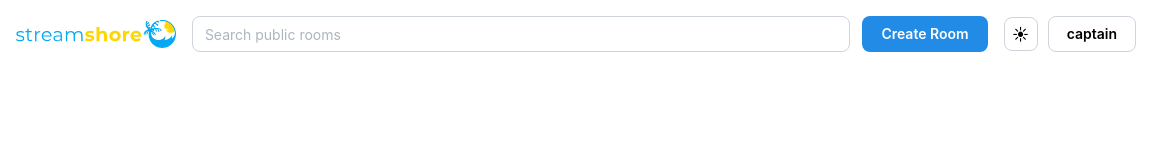
Scenario: PrimaryNavigation › shows a pending search state while public rooms load
Type "blue" into the search field labelled "Search public rooms". click: {"x": 521, "y": 34}
box: left=192, top=16, right=850, bottom=52
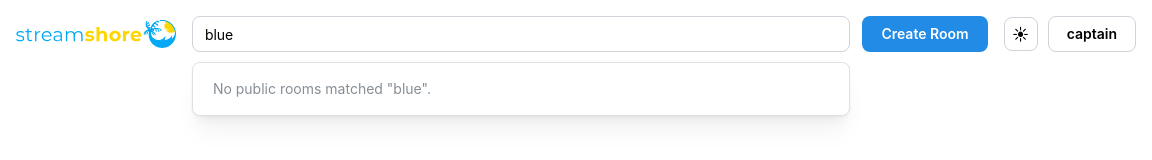
Result: the text "Searching public rooms..." is shown at left=213, top=80, right=431, bottom=97
